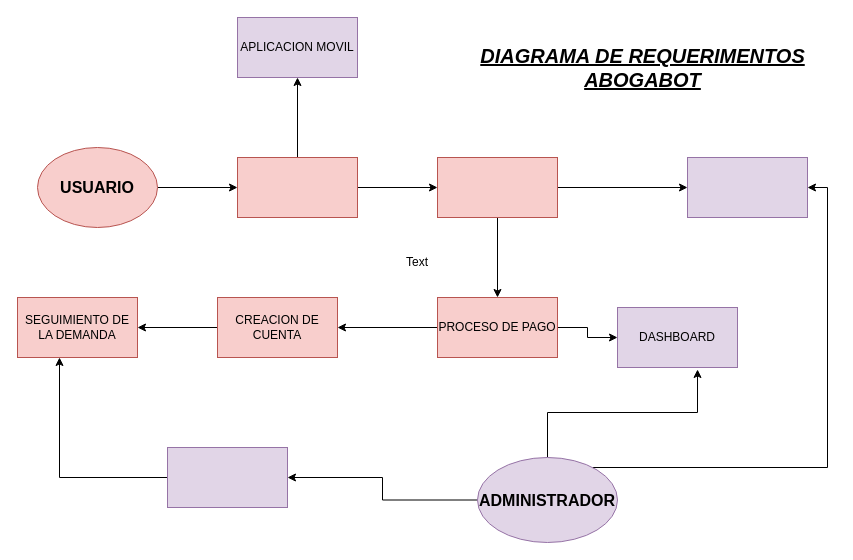
Some shapes in this 853 by 560 pixel diagram are drawn without their labels. Here are the shapes that lost their labels. From the top down, the centre of each, then its label:
At pixel 297 187: "ENTRA A PAGINA WEB".
At pixel 497 187: "LLENADO DE FORMULARIO".
At pixel 747 187: "CREACION AUTOMATICA DEL DOCUMENTO DE WORD".
At pixel 227 477: "ACTUALIZACION DE LA DEMANDA, ENVIO DE NOTIFICACIONES".
